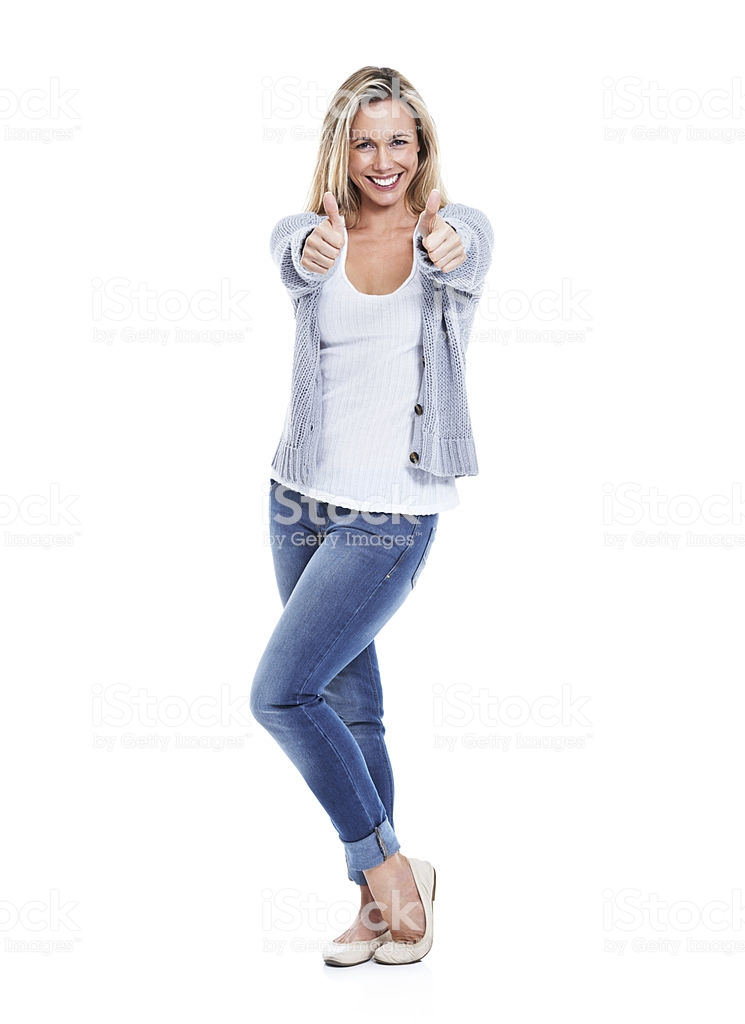thumbsup: (417, 188, 467, 272), (299, 191, 346, 276)
